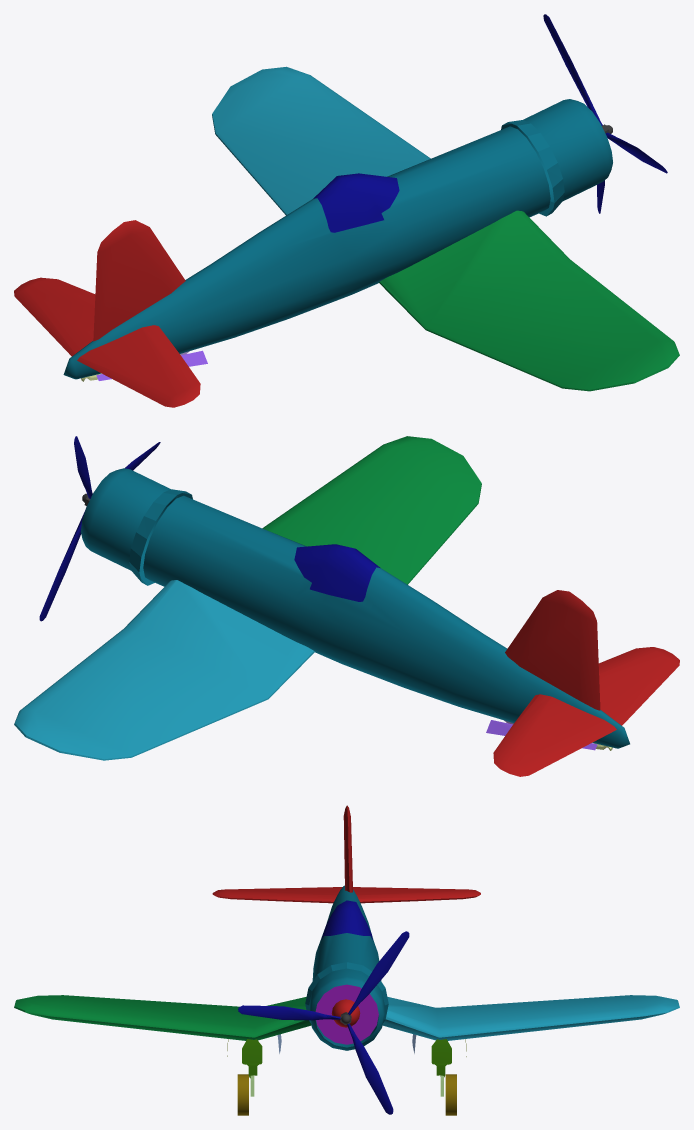
3 renders of one model, top to bottom at view 1: azimuth 30°, elevation 25°; view 2: azimuth 150°, elevation 25°; view 3: azimuth 270°, elevation 25°, orthographic. The views are drawn at different scales.
Visible parts, largest first — view 1: F4U1FUSE, F4U1RWNG, F4U1LWNG, F4U1HOTL, F4U1TAIL, F4U1CAN, F4U1BLD; view 2: F4U1FUSE, F4U1LWNG, F4U1RWNG, F4U1HOTL, F4U1TAIL, F4U1CAN, F4U1BLD; view 3: F4U1LWNG, F4U1RWNG, F4U1FUSE, F4U1HOTL, F4U1BLD, F4U1ENG1, F4U1CAN, F4U1TAIL, F4U1rwd1, F4U1lwd1, F4U1LWHL, F4U1RWHL (+1 smaller).
Part boxes in pixels (x1,y1,x2,y2): F4U1FUSE: (63, 99, 612, 379); F4U1RWNG: (379, 210, 679, 391); F4U1LWNG: (212, 66, 430, 215); F4U1HOTL: (14, 277, 200, 407); F4U1TAIL: (93, 220, 185, 341); F4U1CAN: (313, 173, 399, 232); F4U1BLD: (543, 14, 667, 213); F4U1FUSE: (80, 468, 629, 748); F4U1LWNG: (14, 580, 314, 760); F4U1RWNG: (262, 436, 481, 584); F4U1HOTL: (493, 647, 679, 776); F4U1TAIL: (505, 590, 600, 710); F4U1CAN: (294, 544, 380, 601); F4U1BLD: (39, 436, 160, 621); F4U1LWNG: (382, 995, 679, 1040); F4U1RWNG: (14, 995, 311, 1040); F4U1FUSE: (305, 885, 388, 1050); F4U1HOTL: (212, 887, 480, 903); F4U1BLD: (238, 931, 409, 1114); F4U1ENG1: (315, 984, 378, 1044); F4U1CAN: (321, 900, 372, 939); F4U1TAIL: (343, 805, 352, 892); F4U1rwd1: (242, 1039, 262, 1078); F4U1lwd1: (431, 1039, 451, 1077); F4U1LWHL: (445, 1074, 456, 1115); F4U1RWHL: (237, 1074, 248, 1115).
Size of the model in its own units: 237432 by 103427 by 296807.
